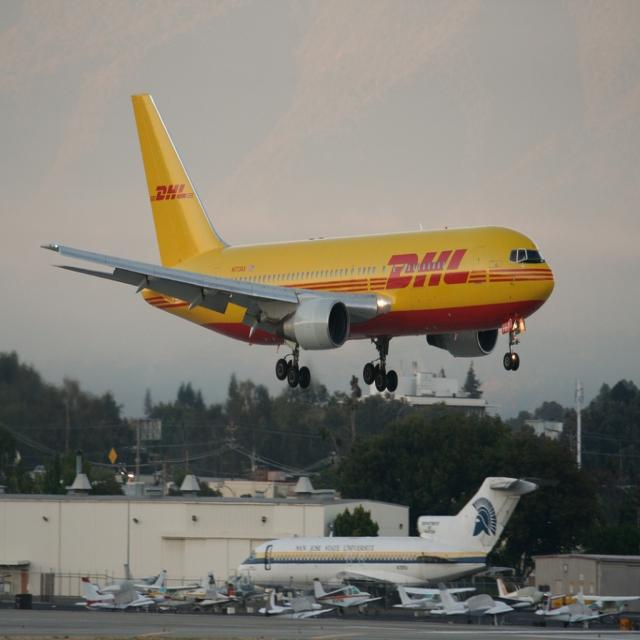dhl: (370, 236, 490, 295), (148, 177, 195, 206)
